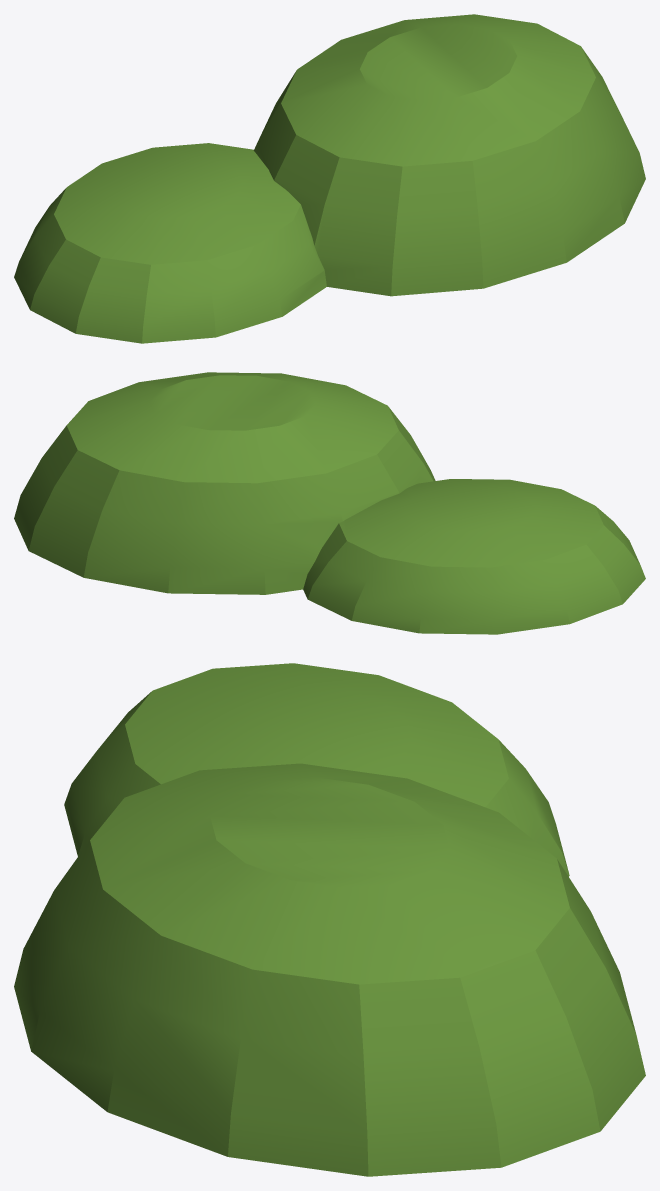
Rendered from Hill_Grass_02.fbx.
3 renders of one model, top to bottom at view 1: azimuth 30°, elevation 25°; view 2: azimuth 150°, elevation 25°; view 3: azimuth 270°, elevation 25°, orthographic. The views are drawn at different scales.
Visible parts, largest first — view 1: Model; view 2: Model; view 3: Model.
Boxes of the visible parts, <box> form: Model: <box>14,14,645,343</box>; Model: <box>14,372,645,634</box>; Model: <box>14,663,645,1176</box>.
Size of the model in its own units: 9006 by 1842 by 5310.
